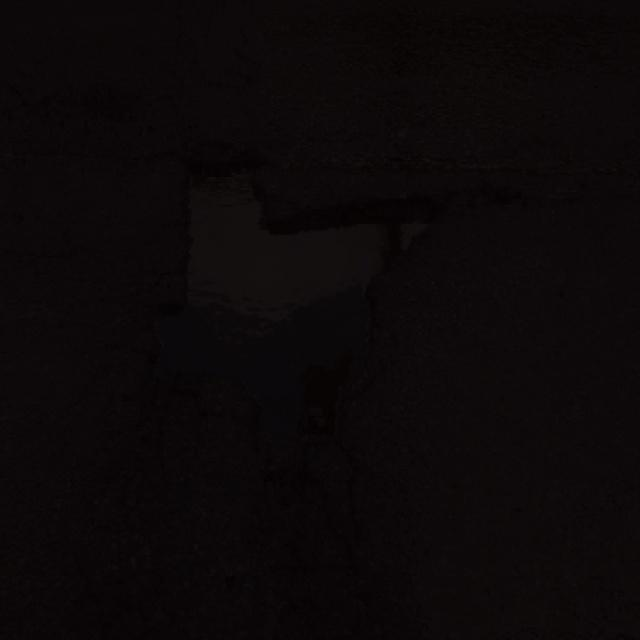Pothole: (142, 137, 462, 457)
